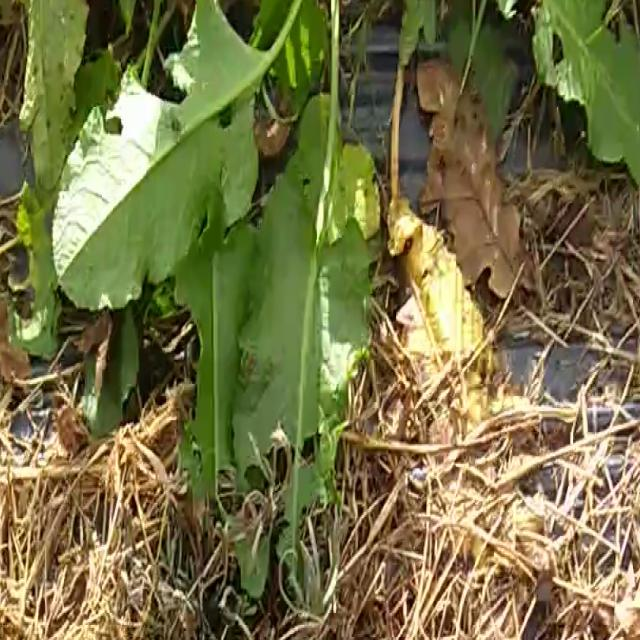organic waste: (40, 0, 398, 553), (475, 0, 640, 242)
